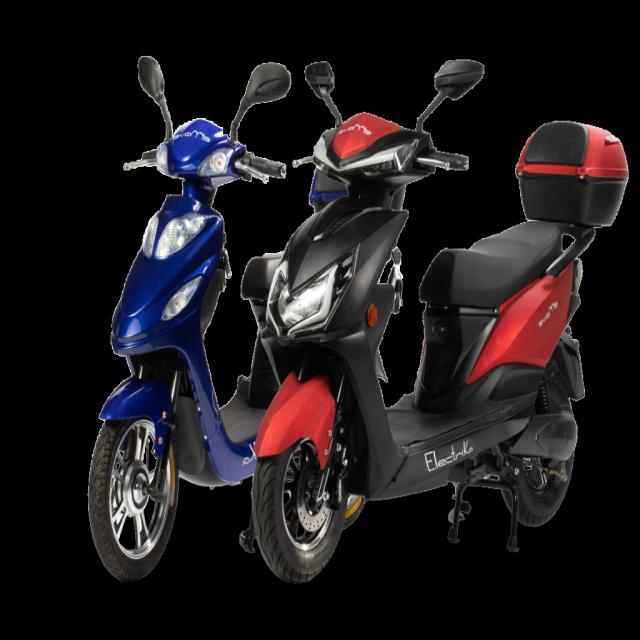Motorcycle: (242, 108, 630, 582), (88, 56, 289, 582)
